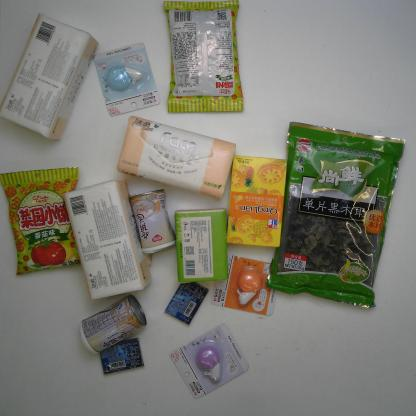Canned Food: (79, 293, 151, 354), (128, 186, 177, 256)
Dessert: (222, 150, 292, 250)
Dried Food: (264, 119, 408, 311)
Gum: (163, 276, 210, 327), (99, 337, 145, 376)
Puffed Food: (0, 163, 89, 278), (161, 0, 246, 114)
Stationery: (170, 322, 250, 400), (92, 41, 162, 120), (209, 252, 282, 316)
Tissue: (0, 12, 98, 142), (61, 177, 154, 303), (113, 114, 240, 200), (172, 208, 231, 289)
